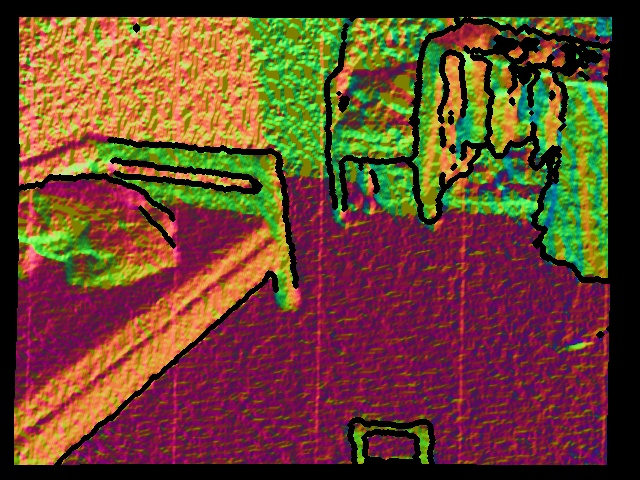station: (349, 421, 434, 468)
